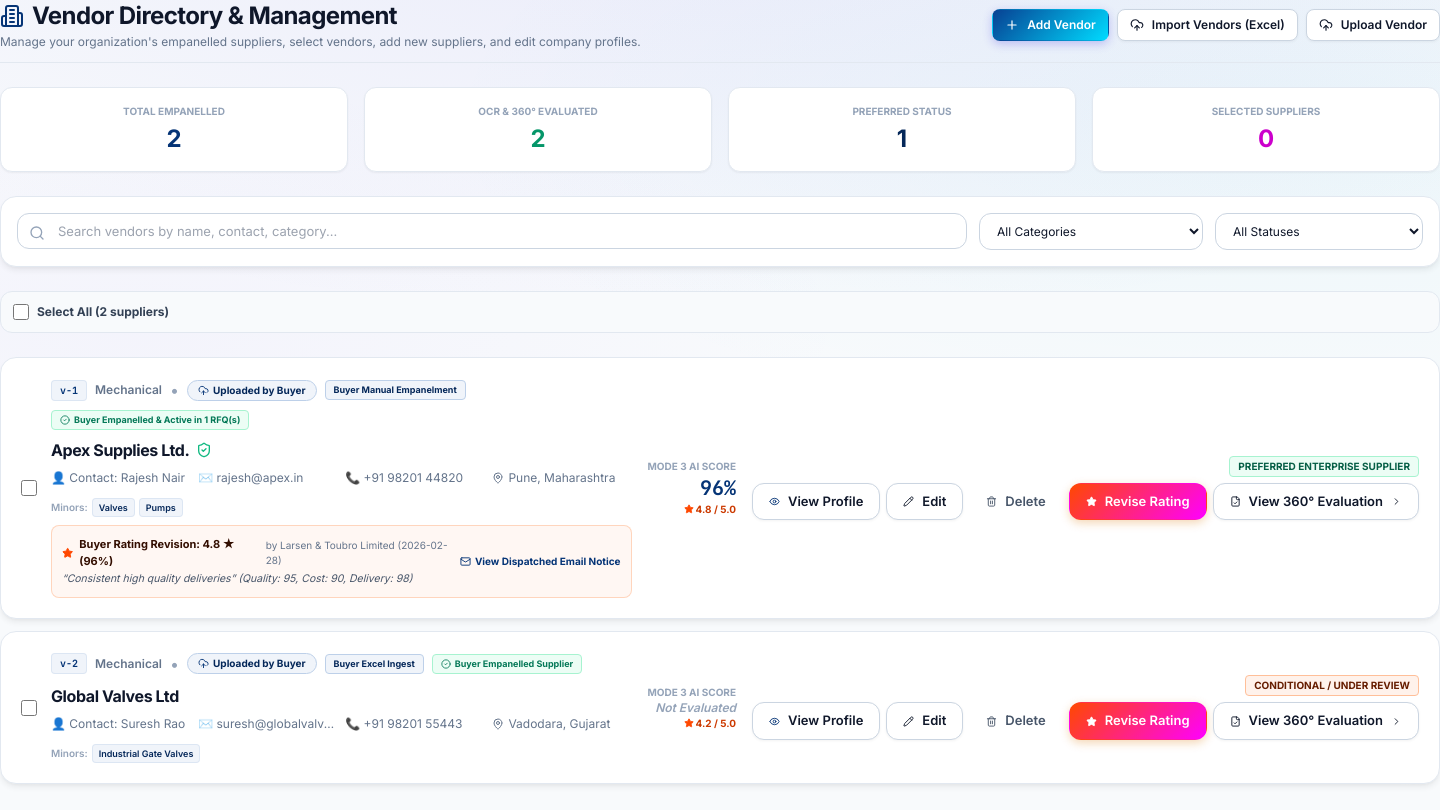
app/buyer/vendor-summary.tsx › Vendor CRUD Operations › handles View Vendor Profile modal workflow
# Click View Profile on Apex Supplies
Click the button "View Profile" in the row of "Pumps". click: (816, 501)
box: top-left (752, 483), bottom-right (880, 520)
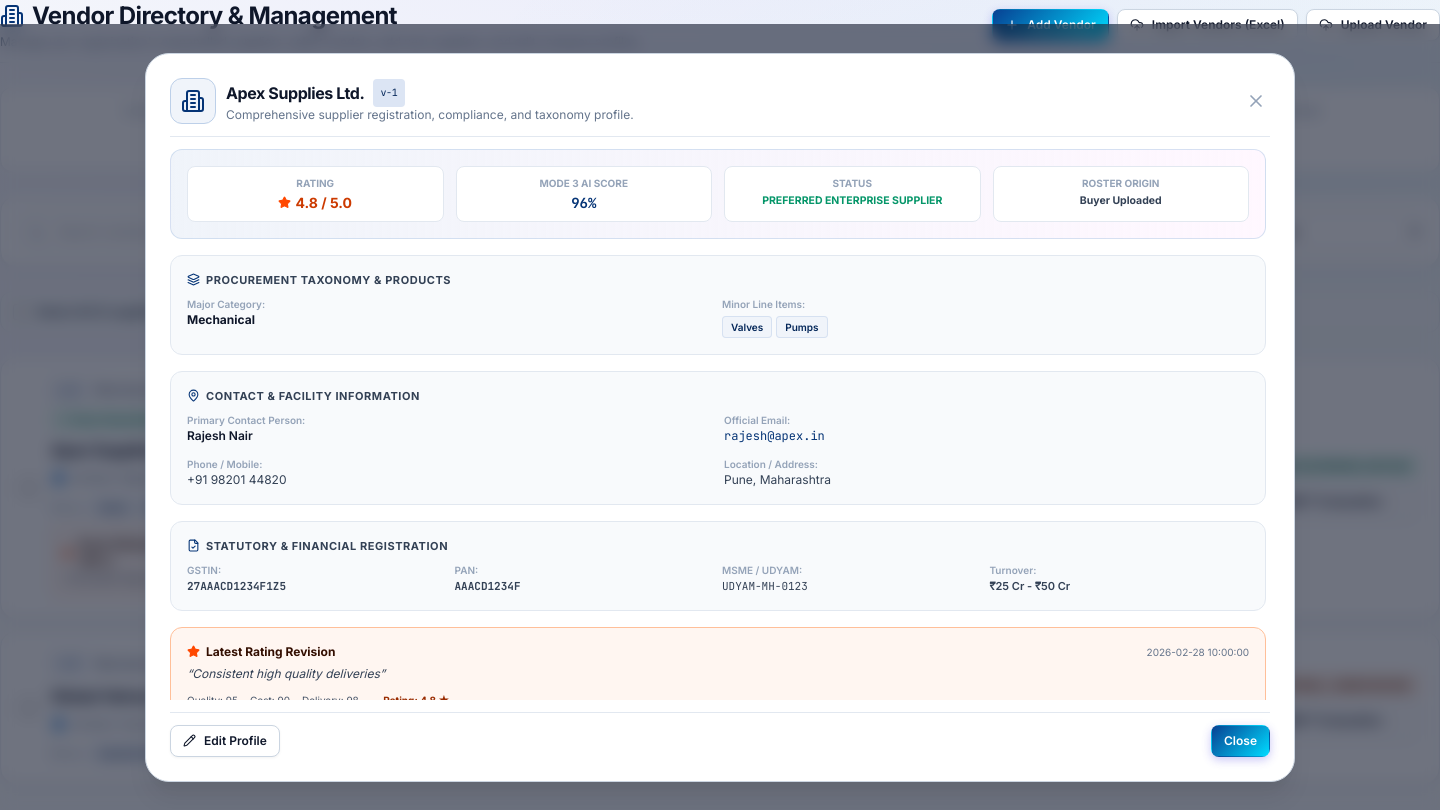
Expected: the text "Comprehensive supplier registration, compliance, and taxonomy profile." is shown, top-left (226, 106), bottom-right (634, 122)
Expected: the text "Procurement Taxonomy & Products" is shown, top-left (187, 272), bottom-right (451, 286)
Expected: the text "Statutory & Financial Registration" is shown, top-left (187, 538), bottom-right (448, 552)
# Close modal
Click the button "Close". click: (1240, 740)
box: top-left (1211, 724), bottom-right (1270, 756)
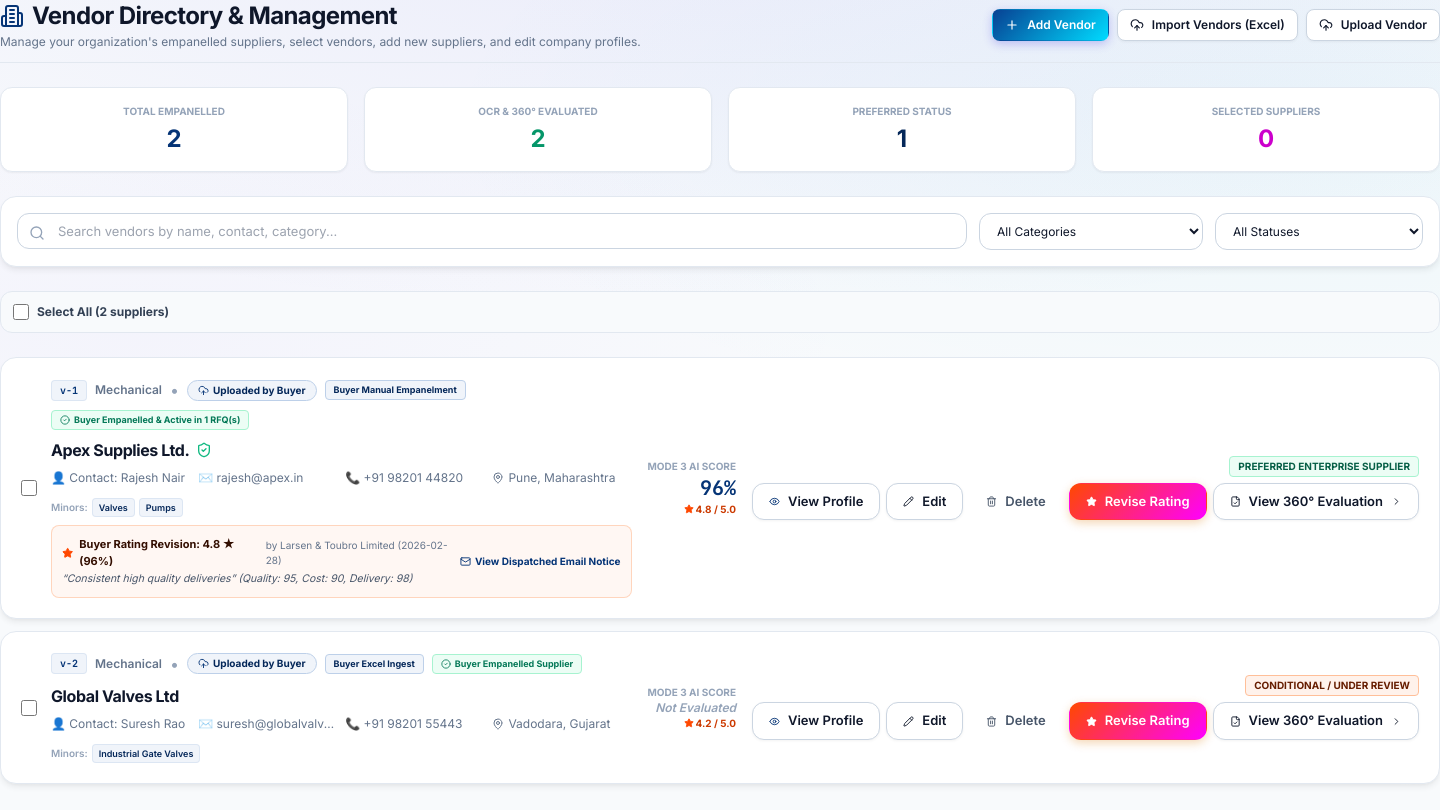
Expected: the text "Comprehensive supplier registration, compliance, and taxonomy profile." is gone
